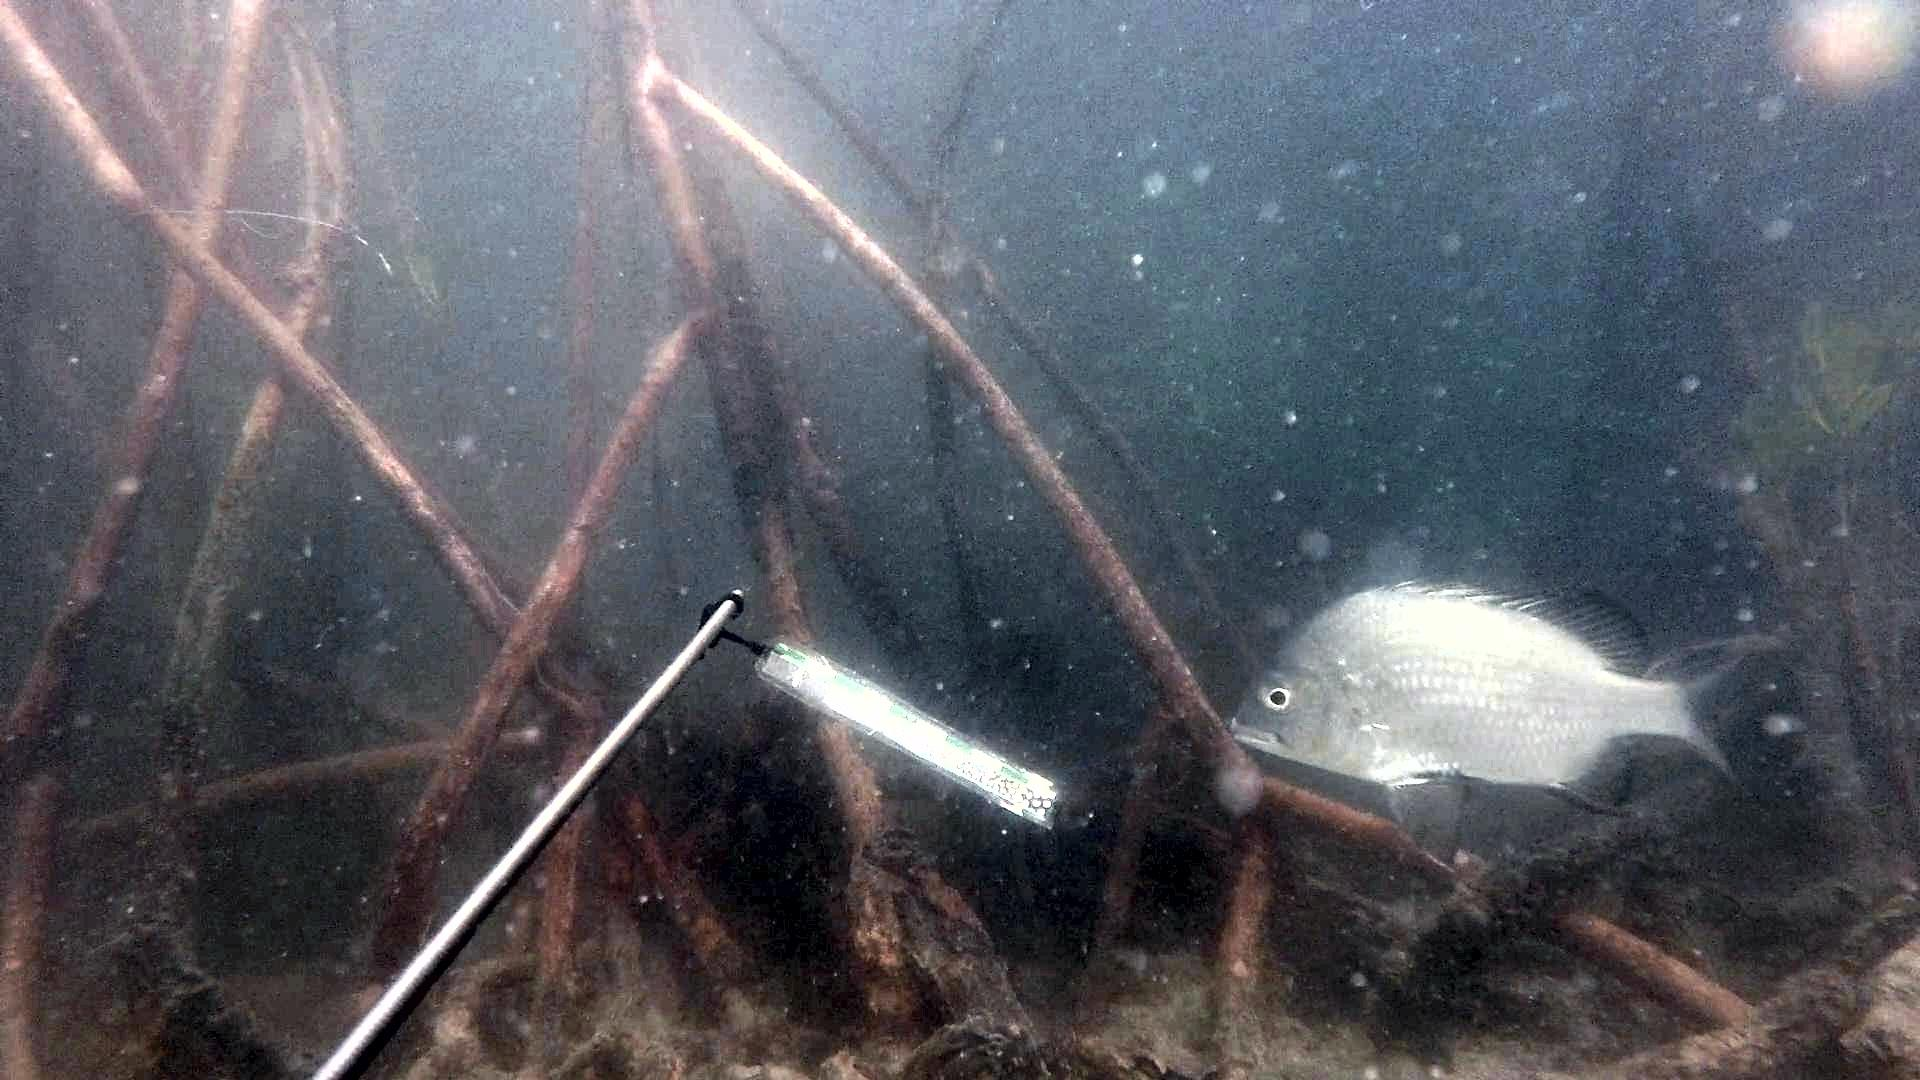acanthopagrus palmaris: (1213, 567, 1787, 861)
